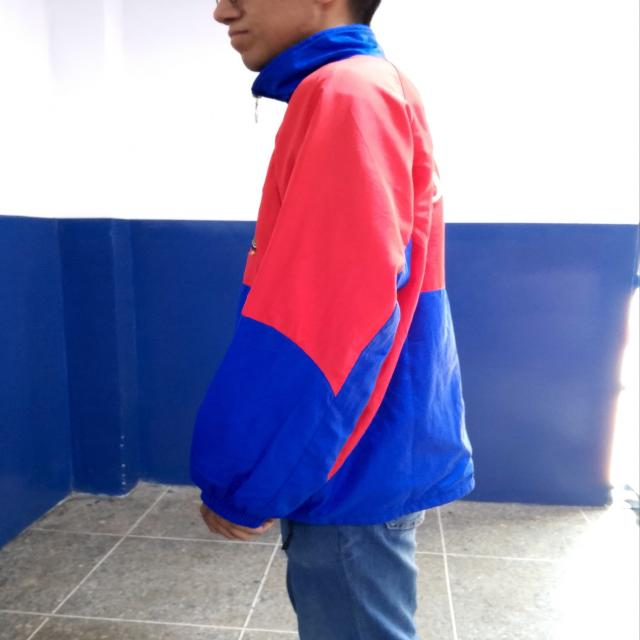chaqueta_unefa: (188, 24, 476, 528)
